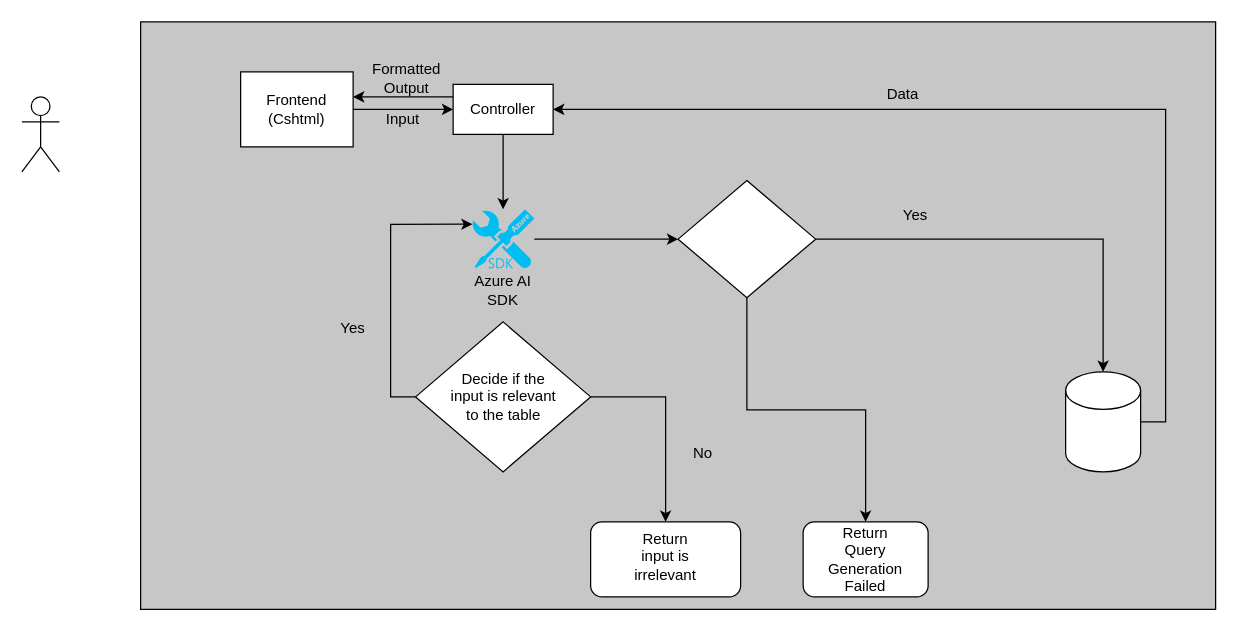
This 1238x631 diagram has some shape labels left out. Each missing label, with the box of its shape:
Actor: (21, 96, 59, 172)
Db: (1064, 371, 1141, 472)
Valid Query Generated: (677, 179, 816, 298)
